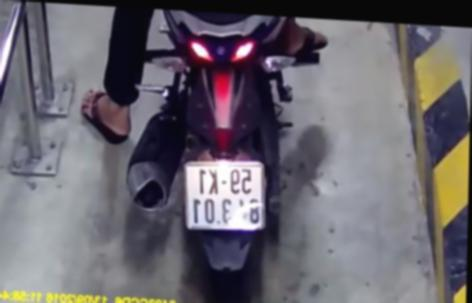License_Plate: (174, 153, 276, 238)
